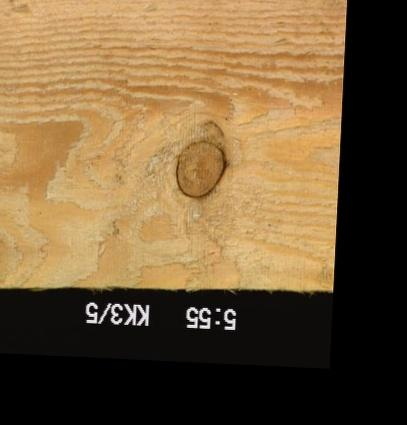dry_knot: (174, 138, 229, 200)
